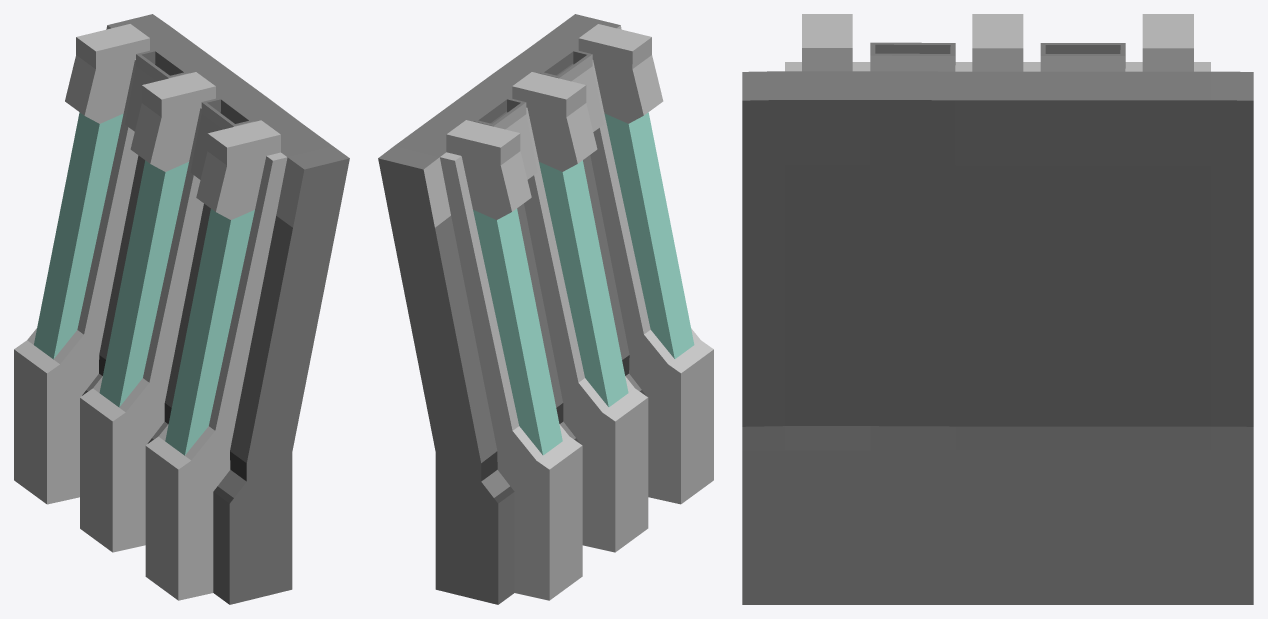
Rendered from valhalla dam wall.fbx.
The picture shows the model from 3 angles, left to right: view 1: azimuth 30°, elevation 25°; view 2: azimuth 150°, elevation 25°; view 3: azimuth 270°, elevation 25°; orthographic projection. The views are drawn at different scales.
Parts seen in each view (by area): view 1: Cube; view 2: Cube; view 3: Cube.
Boxes of the visible parts, x1,y1,x2,y2 form: Cube: (14,14,349,604); Cube: (378,14,713,604); Cube: (742,14,1253,604).
Bounding box in the file's own units: 2727 × 7311 × 6000.
